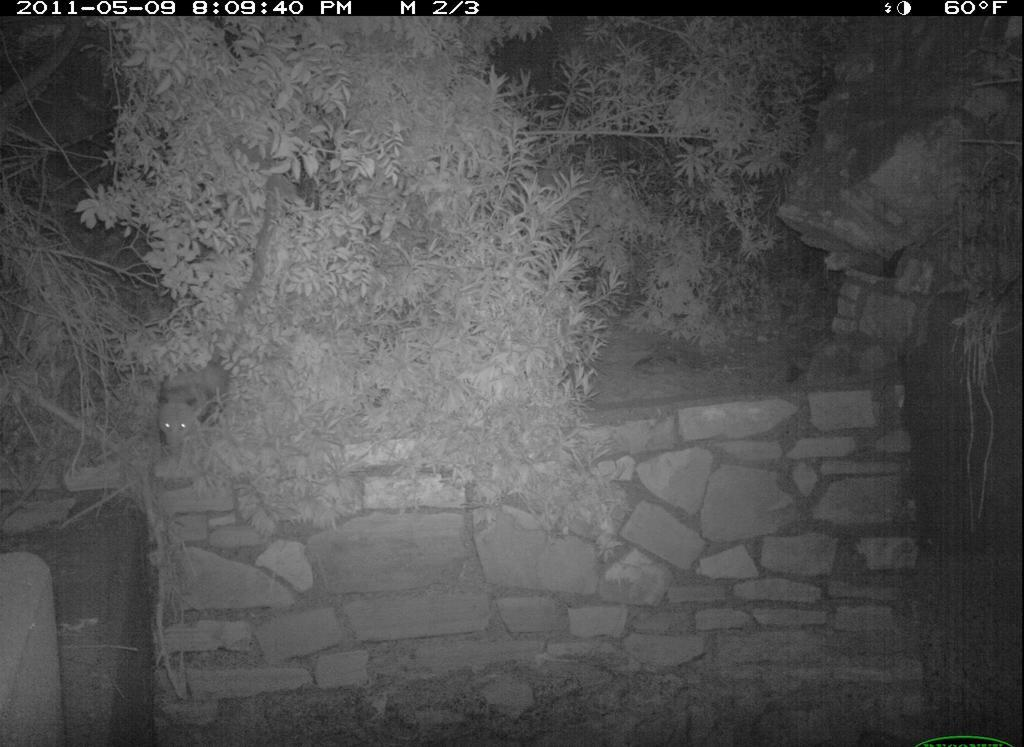opossum: (137, 345, 244, 473)
